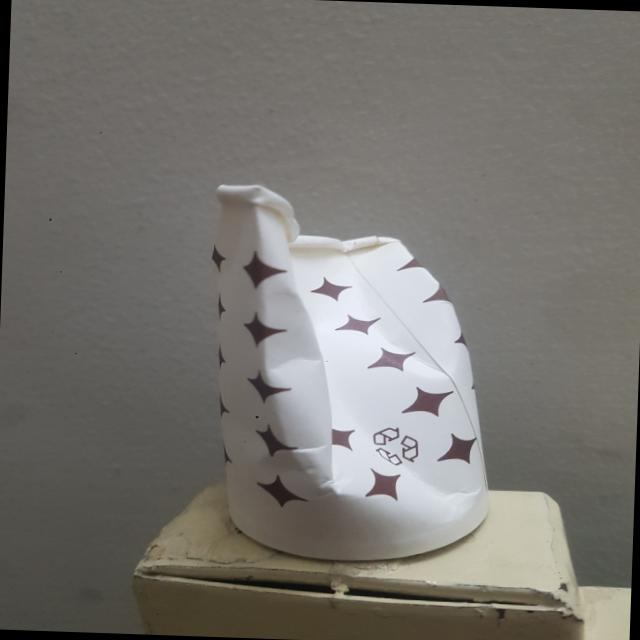electronic: (200, 182, 500, 565)
